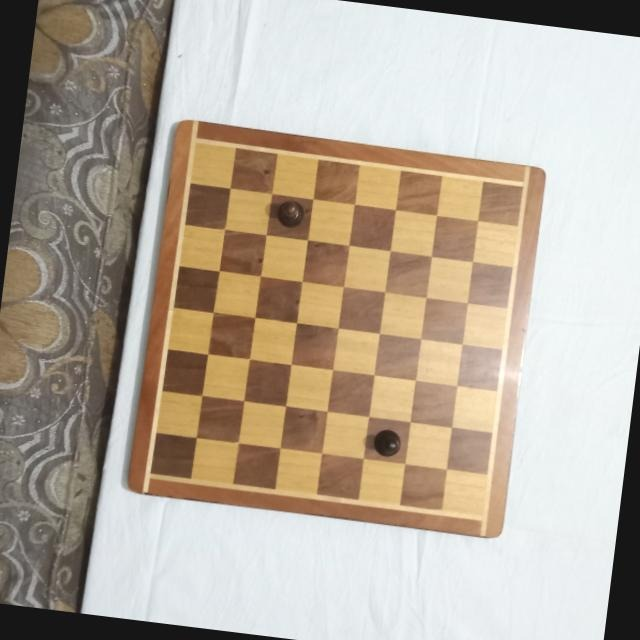black-pawn: (370, 426, 403, 459), (272, 199, 305, 231)
